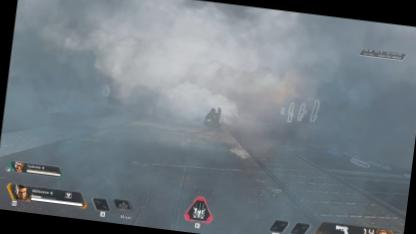Target: (202, 105, 223, 132)
